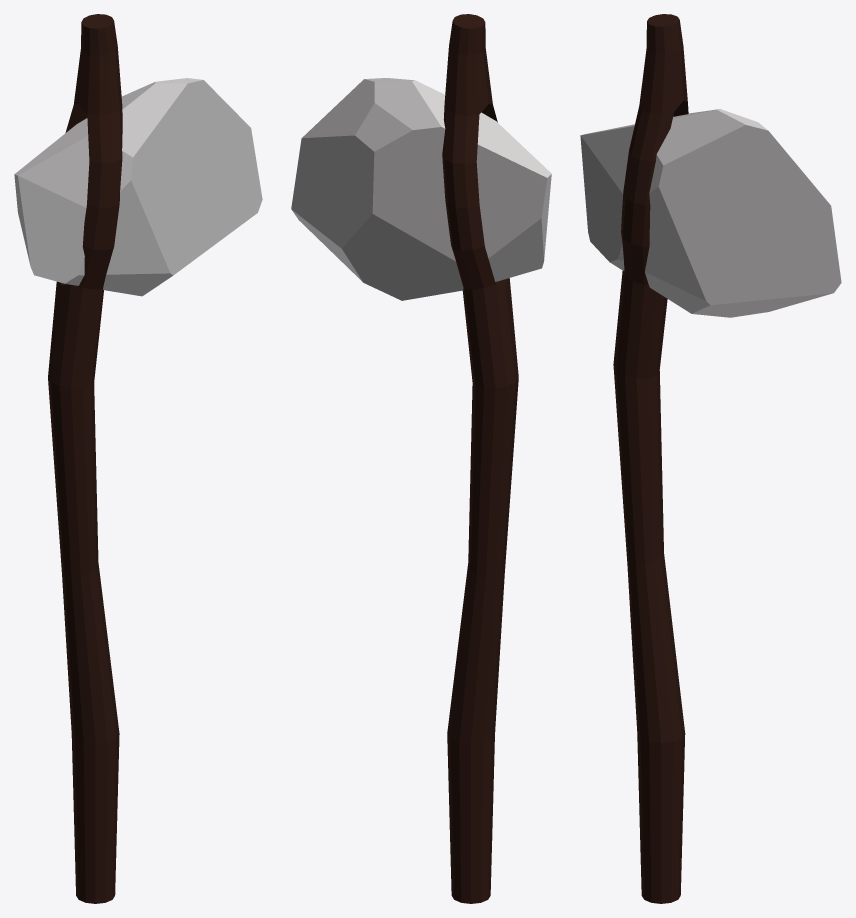
File: RockAxe.fbx
3 views of the same model, side by side, from view 1: azimuth 30°, elevation 25°; view 2: azimuth 150°, elevation 25°; view 3: azimuth 330°, elevation 25° (orthographic).
Visible parts, largest first — view 1: Sphere.003; view 2: Sphere.003; view 3: Sphere.003.
Boxes of the visible parts, bbox=[...] form: Sphere.003: bbox=[14, 14, 262, 903]; Sphere.003: bbox=[291, 14, 551, 903]; Sphere.003: bbox=[580, 14, 841, 903].
Bounding box in the file's own units: 89.15 × 26.57 × 295.
